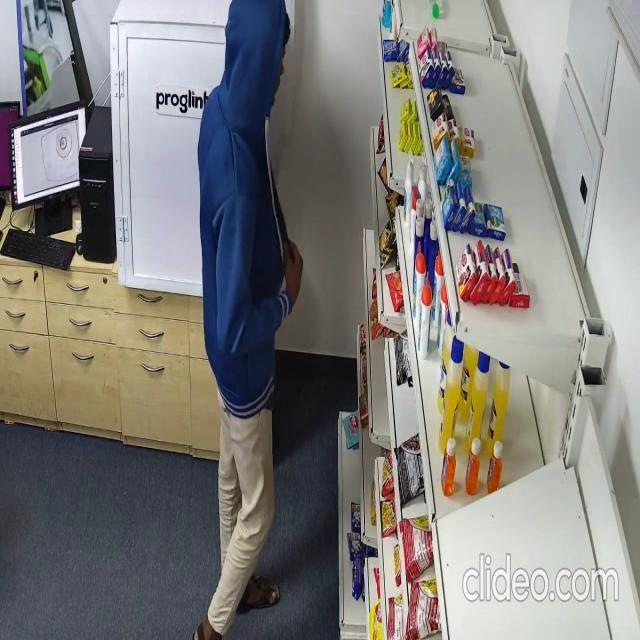Shoplifting: (198, 0, 308, 640)
